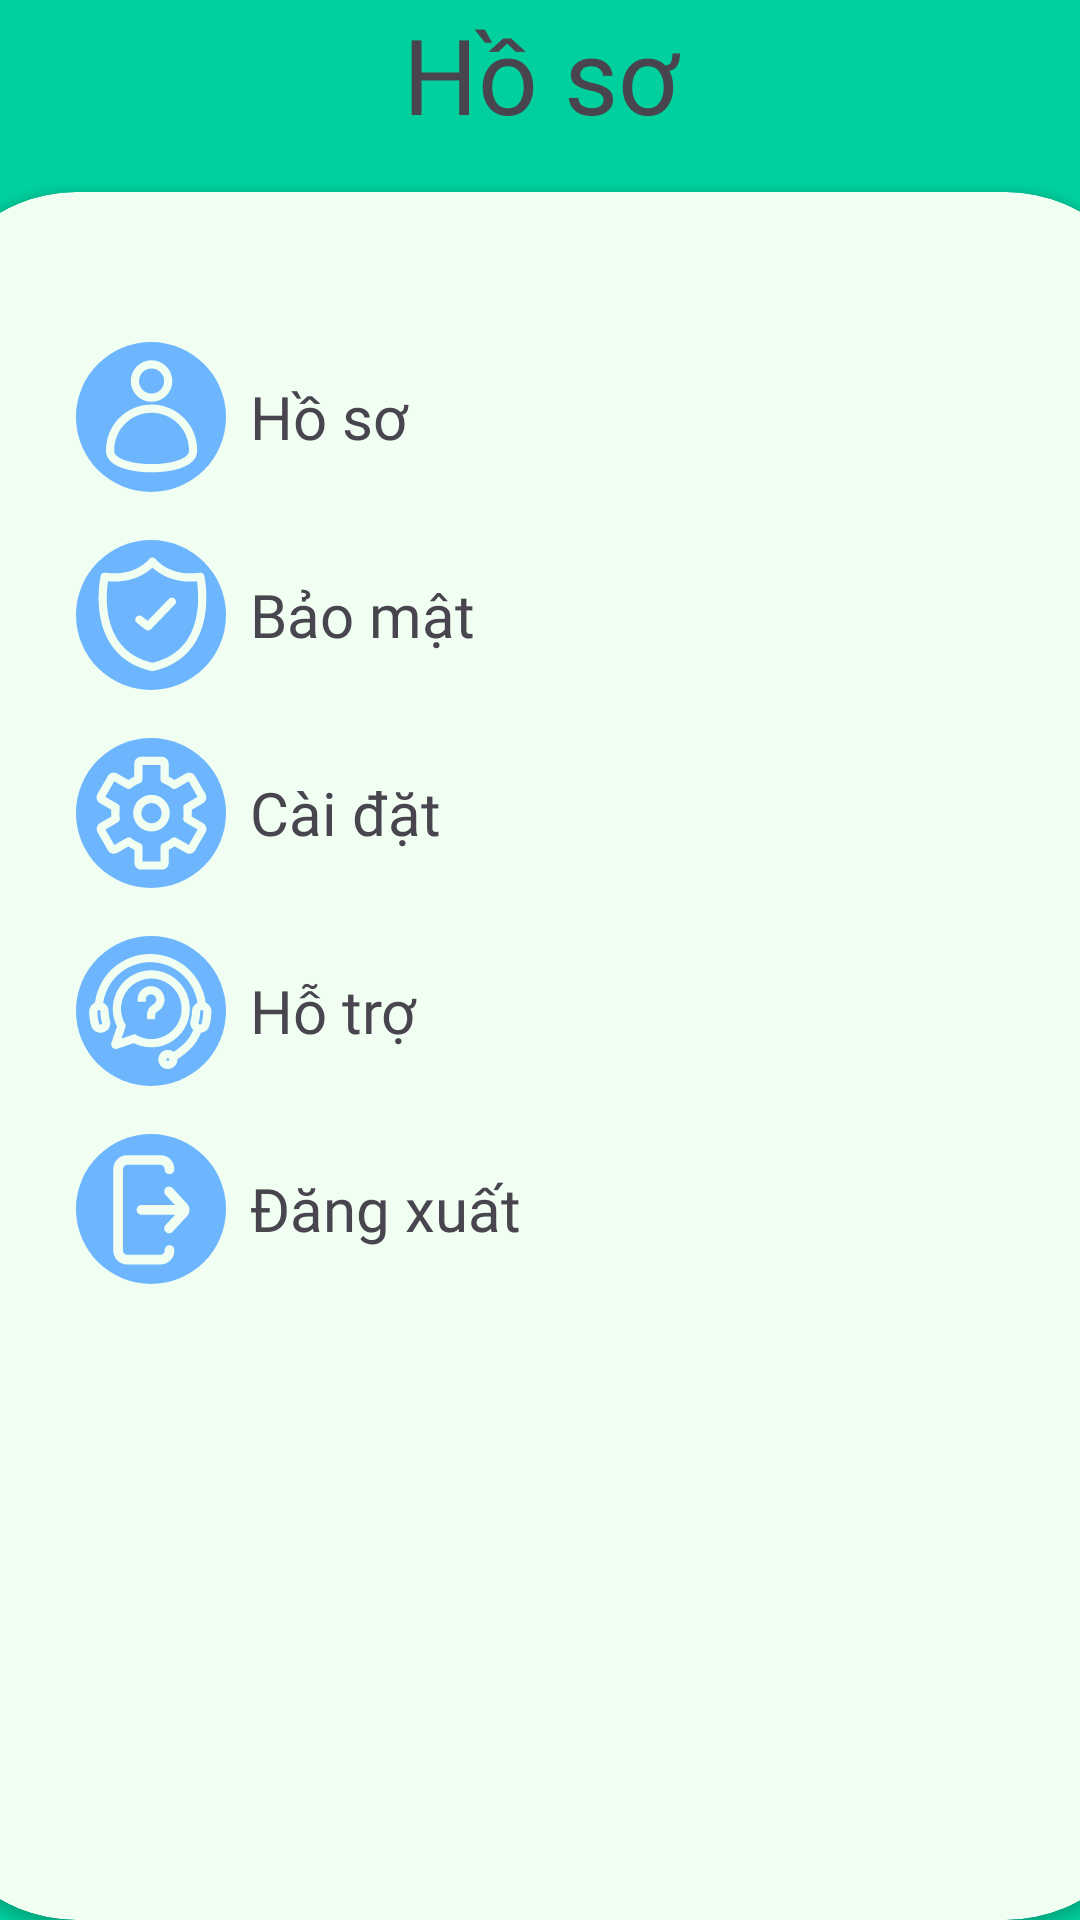

Icon click points for this 1080 × 1920 phone screenshot, format [x,y]:
help: [151,1011]
profile: [151,417]
security: [151,615]
setting: [151,813]
